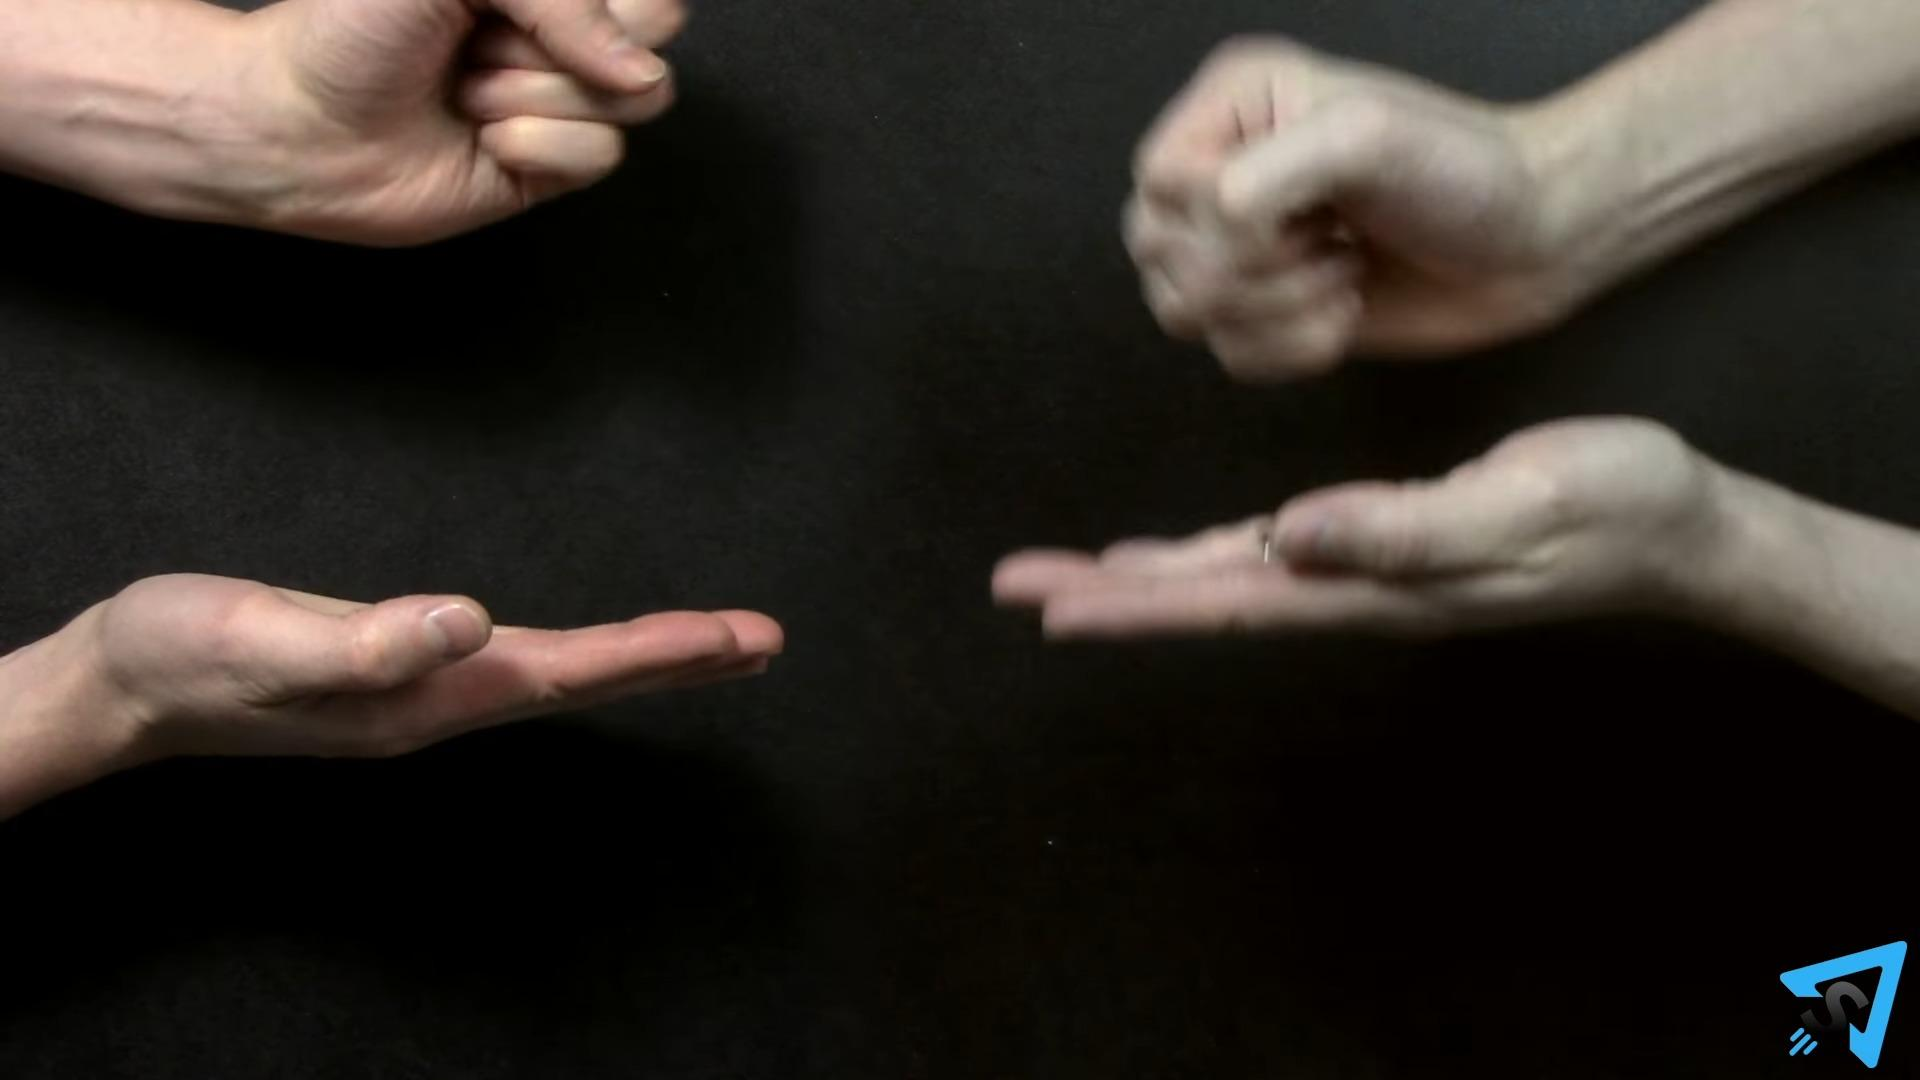Rock: (1122, 29, 1552, 381), (248, 0, 692, 249)
